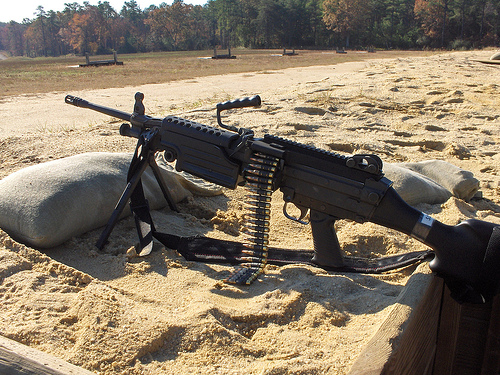rifle: (43, 77, 472, 280)
